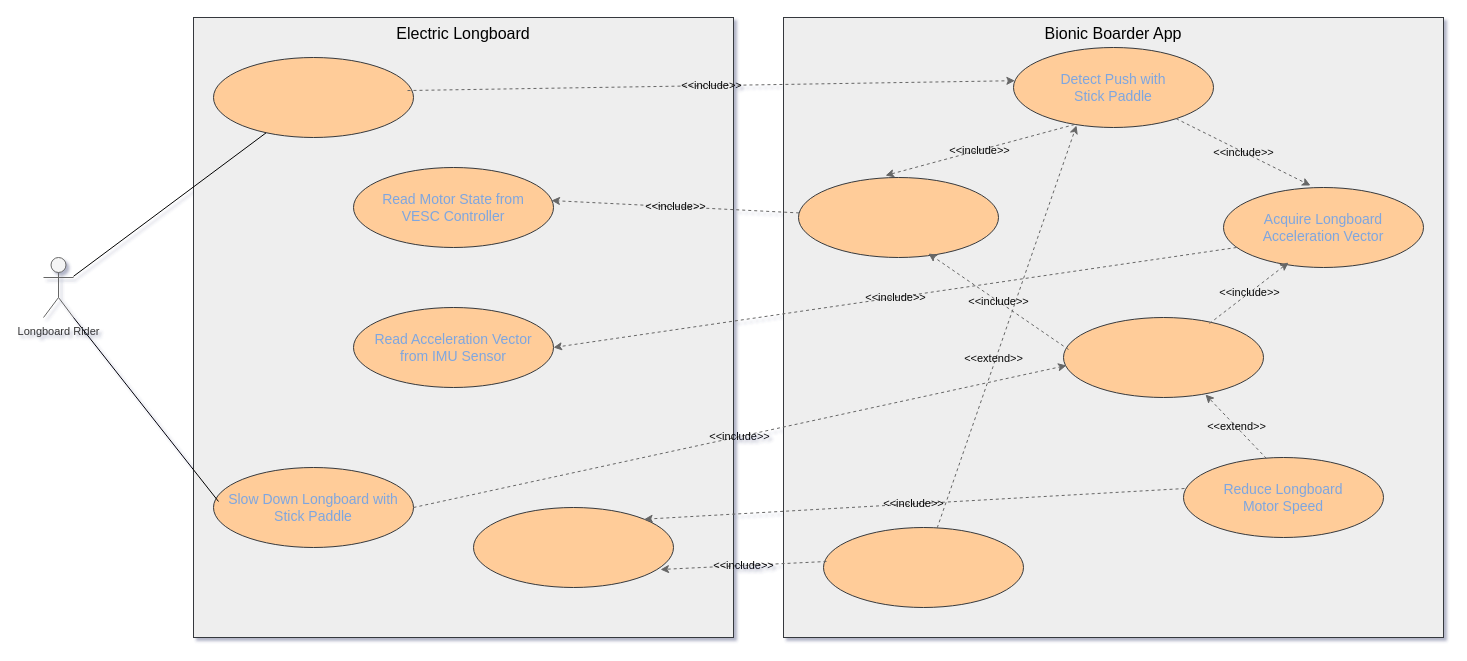
Some shapes in this 1467 by 661 pixel diagram are drawn without their labels. Here are the shapes that lost their labels. From the top down, the centre of each, then its label:
point 313,97: Push Longboard with Stick Paddle
point 898,217: Acquire Longboard Motor State
point 1163,357: Detect Braking with Stick Paddle
point 573,547: Command VESC to Change Speed of Longboard Motor
point 923,567: Boost Longboard Motor Speed
